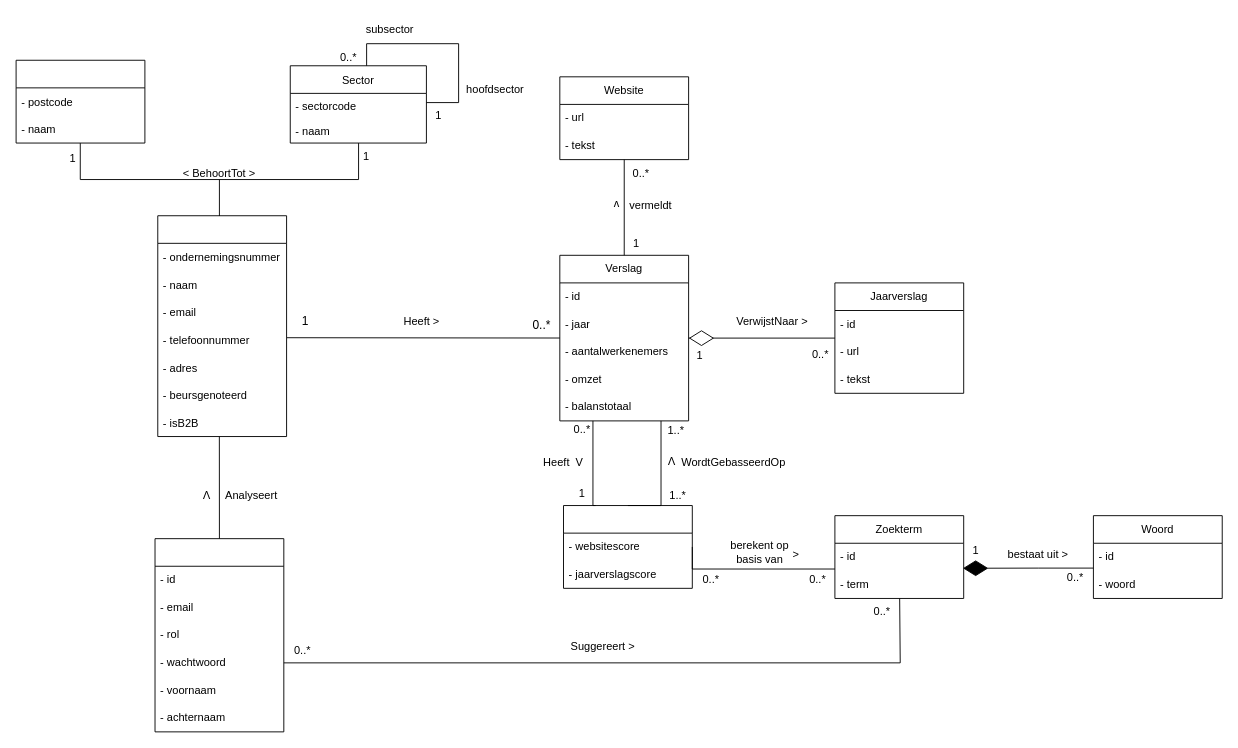
The diagram is 1238 pixels wide and 748 high, and some of its shapes have lost their labels. The shapes that lost their labels are listed below. From the top down, each one's box as (x1, y1, x2, y2) in pixels, then its label:
(15, 59, 145, 143): Gemeente
(157, 215, 287, 437): Kmo
(563, 505, 692, 588): Zoektermscore
(154, 538, 284, 732): Gebruiker
